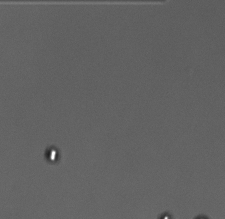Living Cell: (42, 146, 62, 164)
